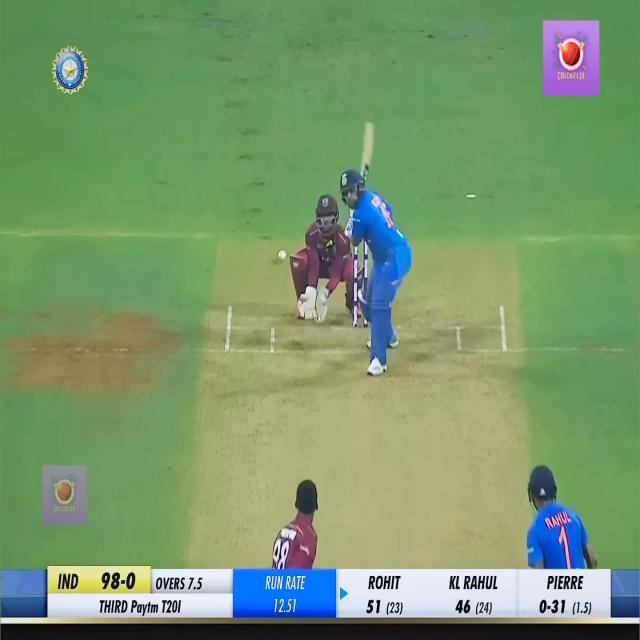fully_visible: (129, 594, 164, 620)
